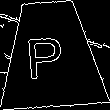P_N: (31, 27, 72, 81)
